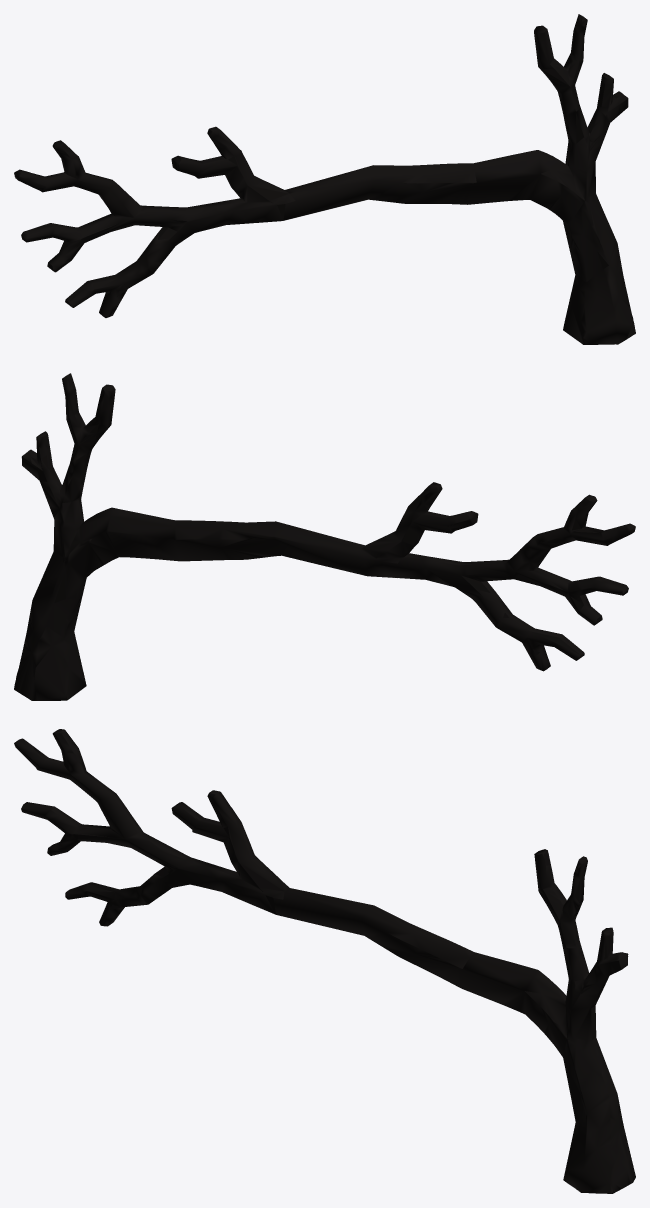
The model's file is bare_tree.glb.
3 renders of one model, top to bottom at view 1: azimuth 30°, elevation 25°; view 2: azimuth 150°, elevation 25°; view 3: azimuth 330°, elevation 25°, orthographic.
Parts seen in each view (by area): view 1: Mesh_0; view 2: Mesh_0; view 3: Mesh_0.
Part boxes in pixels (box(x1,y1,x2,y2)): Mesh_0: box(14, 14, 635, 344); Mesh_0: box(14, 373, 635, 700); Mesh_0: box(14, 729, 635, 1193).
Bounding box in the file's own units: 14.05 × 7 × 1.47.
Materials: 1 (1 with a texture image).
